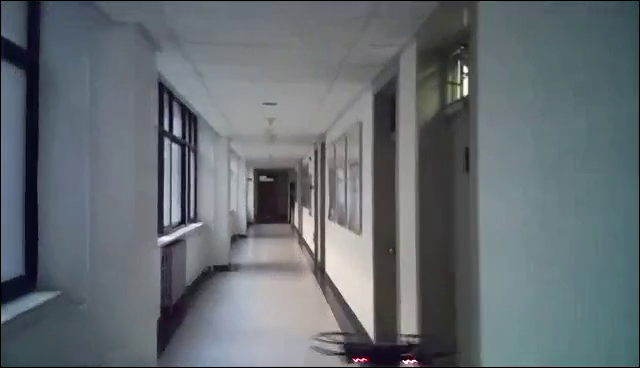drone: (311, 332, 463, 368)
